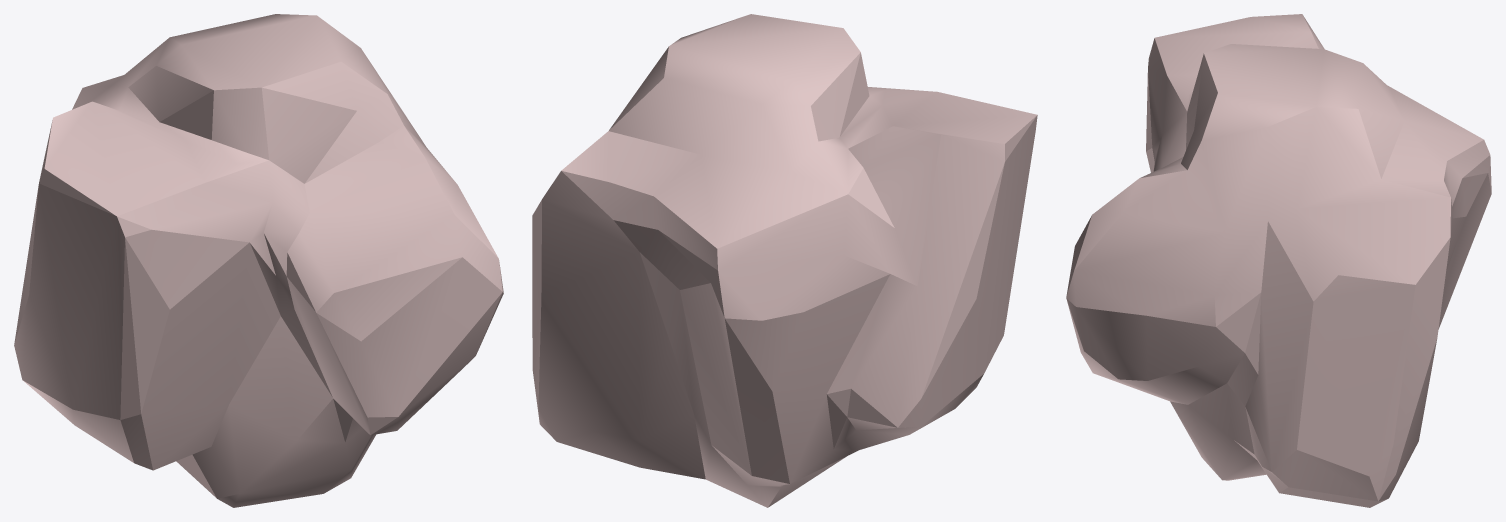
Rendered from stone1.fbx.
3 renders of one model, left to right at view 1: azimuth 30°, elevation 25°; view 2: azimuth 150°, elevation 25°; view 3: azimuth 270°, elevation 25°, orthographic. The views are drawn at different scales.
Visible parts, largest first — view 1: Cube; view 2: Cube; view 3: Cube.
Boxes of the visible parts, bbox=[...] form: Cube: bbox=[14, 14, 503, 507]; Cube: bbox=[532, 14, 1037, 507]; Cube: bbox=[1066, 14, 1491, 507].
Size of the model in its own units: 468 by 478 by 460.
